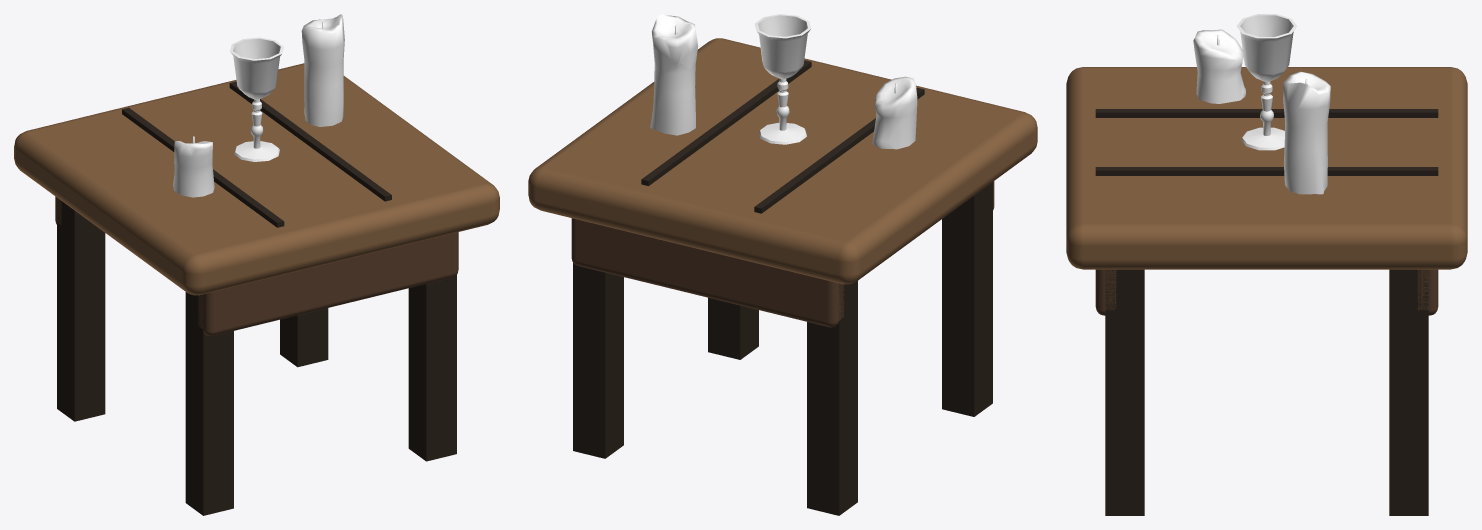
File: offering_table.glb
The picture shows the model from 3 angles, left to right: view 1: azimuth 30°, elevation 25°; view 2: azimuth 150°, elevation 25°; view 3: azimuth 270°, elevation 25°; orthographic projection. The views are drawn at different scales.
Parts seen in each view (by area): view 1: wood, Candle_2, Chalice, Candle_1; view 2: wood, Candle_2, Chalice, Candle_1; view 3: wood, Candle_2, Chalice, Candle_1.
Part boxes in pixels (bbox=[...]): wood: bbox=[14, 63, 499, 515]; Candle_2: bbox=[301, 14, 344, 126]; Chalice: bbox=[230, 37, 283, 161]; Candle_1: bbox=[173, 136, 214, 197]; wood: bbox=[528, 38, 1037, 515]; Candle_2: bbox=[650, 14, 697, 135]; Chalice: bbox=[754, 14, 811, 144]; Candle_1: bbox=[872, 76, 917, 149]; wood: bbox=[1066, 67, 1467, 515]; Candle_2: bbox=[1282, 71, 1330, 194]; Chalice: bbox=[1236, 14, 1297, 150]; Candle_1: bbox=[1193, 29, 1245, 103].
Bounding box in the file's own units: 0.82 × 0.9507 × 0.82.
